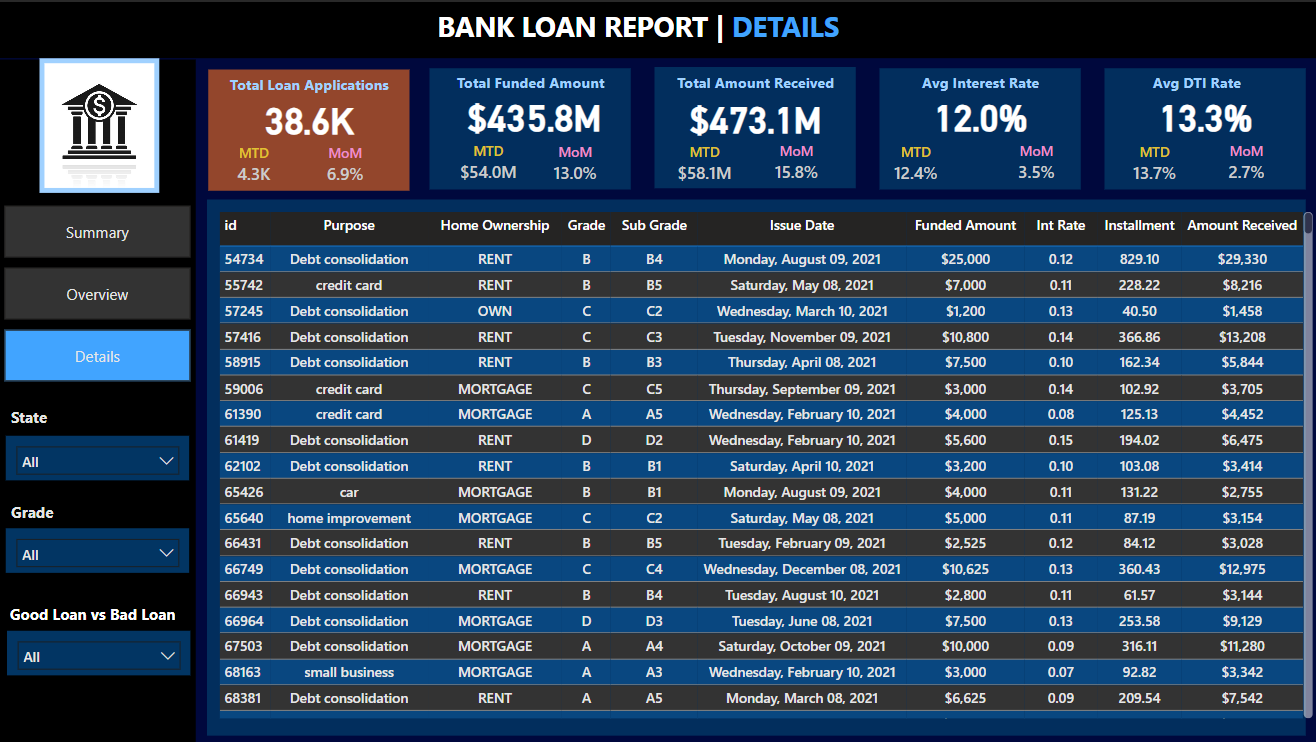

The dashboard page shown, as its layout file describes it:
{"tool":"powerbi","page":{"name":"Details","canvas":[1280,720],"ordinal":2},"visuals":[{"type":"shape","box":[203.4,191.3,1064,519.3],"z":0},{"type":"shape","box":[0,0,1279.5,54.5],"z":1000},{"type":"shape","box":[0,55.4,192.5,664.6],"z":2000},{"type":"textbox","box":[421.3,0,479.4,49.6],"z":3000},{"type":"shape","box":[418.8,64.1,194.9,117.4],"z":3000,"group":"g2"},{"type":"shape","box":[204.6,65.4,194.9,117.4],"z":3000,"group":"g1"},{"type":"shape","box":[854.6,64.1,194.9,117.4],"z":4000,"group":"g3"},{"type":"group","id":"g1","title":"Group 1","box":[204.6,65.4,194.9,117.4],"z":4000},{"type":"card","fields":{"Values":["Key Measures.Total Loan Application"]},"box":[245.8,88.4,113.8,48.4],"z":4000,"group":"g1"},{"type":"group","id":"g2","title":"Group 2","box":[418.8,62.9,194.9,118.6],"z":5000},{"type":"shape","box":[1072.5,64.1,194.9,117.4],"z":5000,"group":"g4"},{"type":"textbox","box":[211.9,65.4,181.6,32.7],"z":5000,"group":"g1"},{"type":"group","id":"g3","title":"Group 4","box":[635.5,62.9,414,118.6],"z":6000},{"type":"shape","box":[636.7,62.9,194.9,117.4],"z":6000,"group":"g5"},{"type":"card","title":"MTD","fields":{"Values":["Key Measures.MTD Loan Applications"]},"box":[214.3,136.8,69,46],"z":6000,"group":"g1"},{"type":"group","id":"g4","title":"Group 5","box":[1071.3,62.9,196.1,118.6],"z":7000},{"type":"card","fields":{"Values":["Key Measures.Total Funded Amount"]},"box":[446.6,85.9,147.7,48.4],"z":7000,"group":"g2"},{"type":"card","title":"MoM","fields":{"Values":["Key Measures.MoM Loan Applications"]},"box":[302.7,136.8,69,46],"z":7000,"group":"g1"},{"type":"textbox","box":[426.1,62.9,181.6,32.7],"z":8000,"group":"g2"},{"type":"textbox","box":[8.5,387.4,72.6,32.7],"z":8000},{"type":"card","title":"MTD","fields":{"Values":["Key Measures.MTD Funded Amount"]},"box":[426.1,134.3,99.3,46],"z":9000,"group":"g2"},{"type":"slicer","fields":{"Values":["financial_loan.address_state"]},"box":[8.5,420,177.9,43.6],"z":9000},{"type":"card","title":"MoM","fields":{"Values":["Key Measures.MoM Funded Amount"]},"box":[525.3,135.5,69,46],"z":10000,"group":"g2"},{"type":"slicer","fields":{"Values":["financial_loan.grade"]},"box":[8.5,509.6,177.9,43.6],"z":10000},{"type":"card","fields":{"Values":["Key Measures.Total Amount Received"]},"box":[660.9,87.1,147.7,48.4],"z":11000,"group":"g5"},{"type":"slicer","fields":{"Values":["financial_loan.Good vs Bad Loan"]},"box":[9.7,608.9,177.9,43.6],"z":11000},{"type":"textbox","box":[644,62.9,181.6,32.7],"z":12000,"group":"g5"},{"type":"textbox","box":[8.5,479.4,72.6,32.7],"z":12000},{"type":"card","title":"MTD","fields":{"Values":["Key Measures.MTD Amount Received"]},"box":[635.5,135.5,99.3,46],"z":13000,"group":"g5"},{"type":"textbox","box":[7.3,577.4,184,31.5],"z":13000},{"type":"card","title":"MoM","fields":{"Values":["Key Measures.MoM Amount Received"]},"box":[739.6,134.3,69,46],"z":14000,"group":"g5"},{"type":"tableEx","fields":{"Values":["financial_loan.id","financial_loan.purpose","financial_loan.home_ownership","financial_loan.grade","financial_loan.sub_grade","financial_loan.issue_date","Key Measures.Total Funded Amount","Sum(financial_loan.int_rate)","Sum(financial_loan.installment)","Key Measures.Total Amount Received"]},"box":[209.4,198.5,1070.1,499.9],"z":14000},{"type":"image","box":[41.2,54.5,116.2,130.7],"z":15000},{"type":"card","fields":{"Values":["Key Measures.Avg Int Rate"]},"box":[878.8,85.9,147.7,48.4],"z":15000,"group":"g3"},{"type":"card","title":"MoM","fields":{"Values":["Key Measures.MoM Avg Int Rate"]},"box":[972,134.3,69,46],"z":16000,"group":"g3"},{"type":"pageNavigator","box":[7.3,197.3,180.4,171.9],"z":16000},{"type":"card","title":"MTD","fields":{"Values":["Key Measures.MTD Avg Int"]},"box":[840.1,135.5,99.3,46],"z":17000,"group":"g3"},{"type":"textbox","box":[861.9,62.9,181.6,32.7],"z":18000,"group":"g3"},{"type":"card","fields":{"Values":["Key Measures.Avg DTI"]},"box":[1096.7,85.9,147.7,48.4],"z":19000,"group":"g4"},{"type":"card","title":"MoM","fields":{"Values":["Key Measures.MoM Avg DTI"]},"box":[1175.4,134.3,69,46],"z":20000,"group":"g4"},{"type":"card","title":"MTD","fields":{"Values":["Key Measures.MTD Avg DTI"]},"box":[1071.3,135.5,99.3,46],"z":21000,"group":"g4"},{"type":"textbox","box":[1071.3,62.9,181.6,32.7],"z":22000,"group":"g4"},{"type":"group","id":"g5","title":"Group 3","box":[635.5,62.9,196.1,118.6],"z":24002,"group":"g3"}]}

Visuals, with their boxes in screenshot pixels (x1, y1, x2, y2), scaled from the page's 1280x720 canvas onto the 1316x742 screenshot:
shape: bbox(209, 197, 1303, 732)
shape: bbox(0, 0, 1315, 56)
shape: bbox(0, 57, 198, 741)
textbox: bbox(433, 0, 926, 51)
shape: bbox(431, 66, 631, 187)
shape: bbox(210, 67, 411, 188)
shape: bbox(879, 66, 1079, 187)
"Group 1" group: bbox(210, 67, 411, 188)
card - Key Measures.Total Loan Application: bbox(253, 91, 370, 141)
"Group 2" group: bbox(431, 65, 631, 187)
shape: bbox(1103, 66, 1303, 187)
textbox: bbox(218, 67, 405, 101)
"Group 4" group: bbox(653, 65, 1079, 187)
shape: bbox(655, 65, 855, 186)
"MTD" card: bbox(220, 141, 291, 188)
"Group 5" group: bbox(1101, 65, 1303, 187)
card - Key Measures.Total Funded Amount: bbox(459, 89, 611, 138)
"MoM" card: bbox(311, 141, 382, 188)
textbox: bbox(438, 65, 625, 99)
textbox: bbox(9, 399, 83, 433)
"MTD" card: bbox(438, 138, 540, 186)
slicer - financial_loan.address_state: bbox(9, 433, 192, 478)
"MoM" card: bbox(540, 140, 611, 187)
slicer - financial_loan.grade: bbox(9, 525, 192, 570)
card - Key Measures.Total Amount Received: bbox(679, 90, 831, 140)
slicer - financial_loan.Good vs Bad Loan: bbox(10, 628, 193, 672)
textbox: bbox(662, 65, 849, 99)
textbox: bbox(9, 494, 83, 528)
"MTD" card: bbox(653, 140, 755, 187)
textbox: bbox(8, 595, 197, 628)
"MoM" card: bbox(760, 138, 831, 186)
tableEx - financial_loan.id x financial_loan.purpose: bbox(215, 205, 1315, 720)
image: bbox(42, 56, 162, 191)
card - Key Measures.Avg Int Rate: bbox(904, 89, 1055, 138)
"MoM" card: bbox(999, 138, 1070, 186)
pageNavigator: bbox(8, 203, 193, 380)
"MTD" card: bbox(864, 140, 966, 187)
textbox: bbox(886, 65, 1073, 99)
card - Key Measures.Avg DTI: bbox(1128, 89, 1279, 138)
"MoM" card: bbox(1208, 138, 1279, 186)
"MTD" card: bbox(1101, 140, 1204, 187)
textbox: bbox(1101, 65, 1288, 99)
"Group 3" group: bbox(653, 65, 855, 187)
